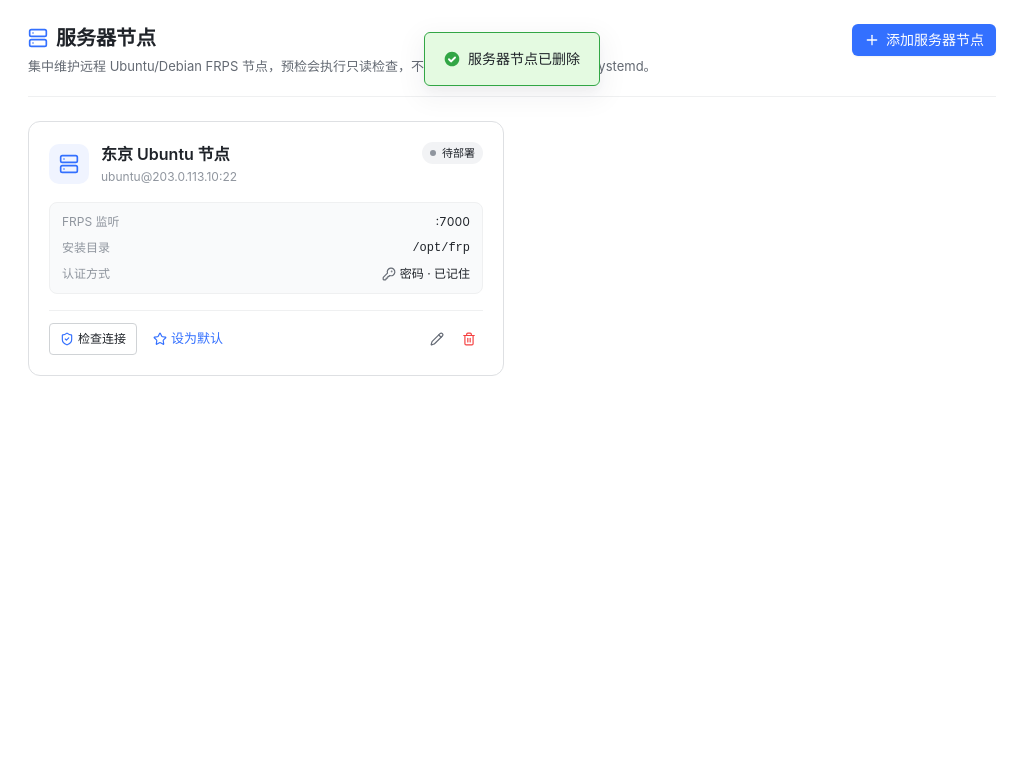
Test: ServerNodeManagerPage › 首次检查只展示 SSH 指纹确认，确认前不把节点标记为可部署
The image size is (1024, 768).
Click the button "检查连接" at [93, 339], box x1=49 y1=323 x2=137 y2=355
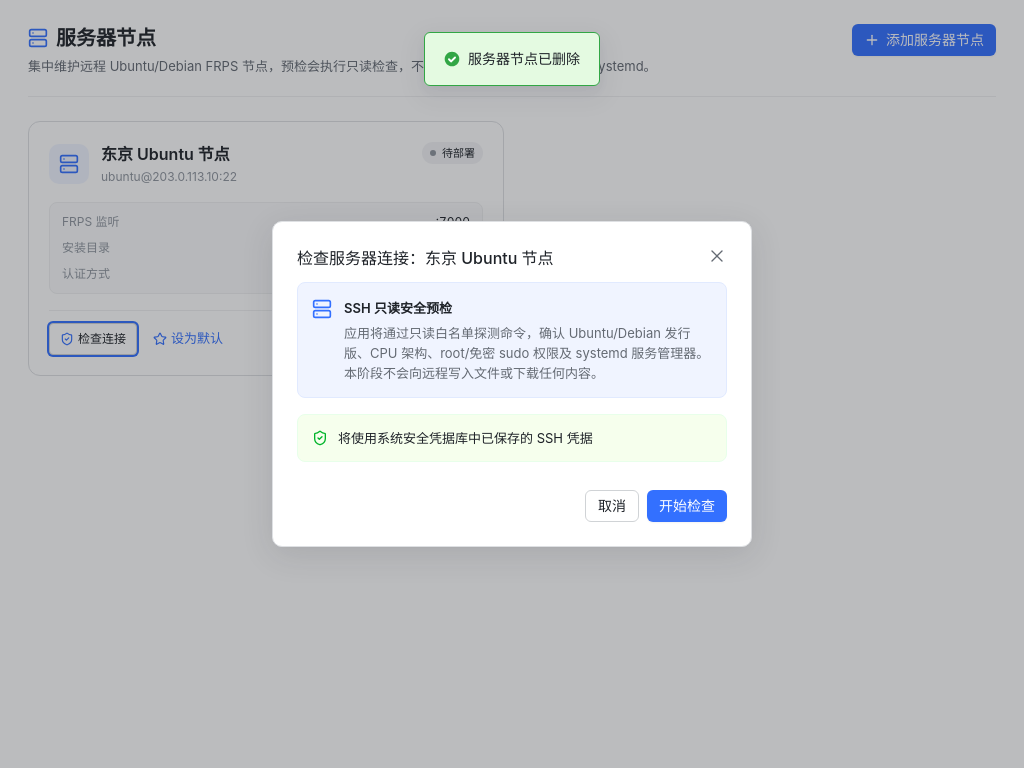
Click the button "开始检查" at [687, 506], box x1=647 y1=490 x2=727 y2=522
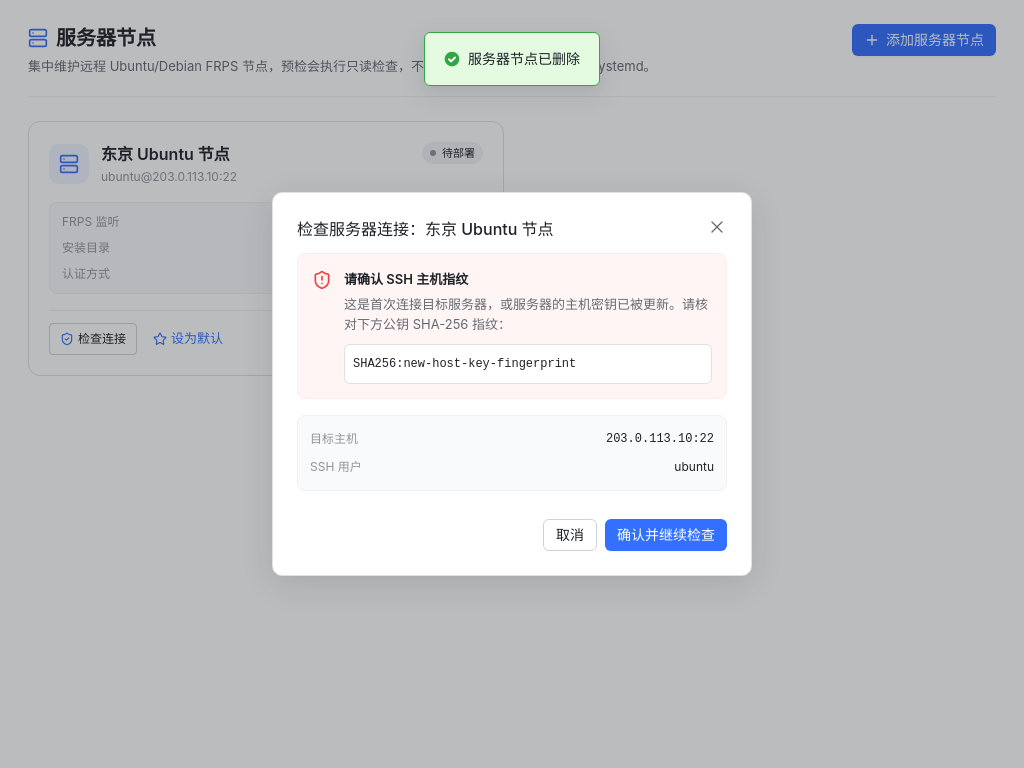
Result: the heading "请确认 SSH 主机指纹" is shown at x1=344 y1=271 x2=468 y2=287
Result: the text "SHA256:new-host-key-fingerprint" is shown at x1=344 y1=344 x2=712 y2=384
